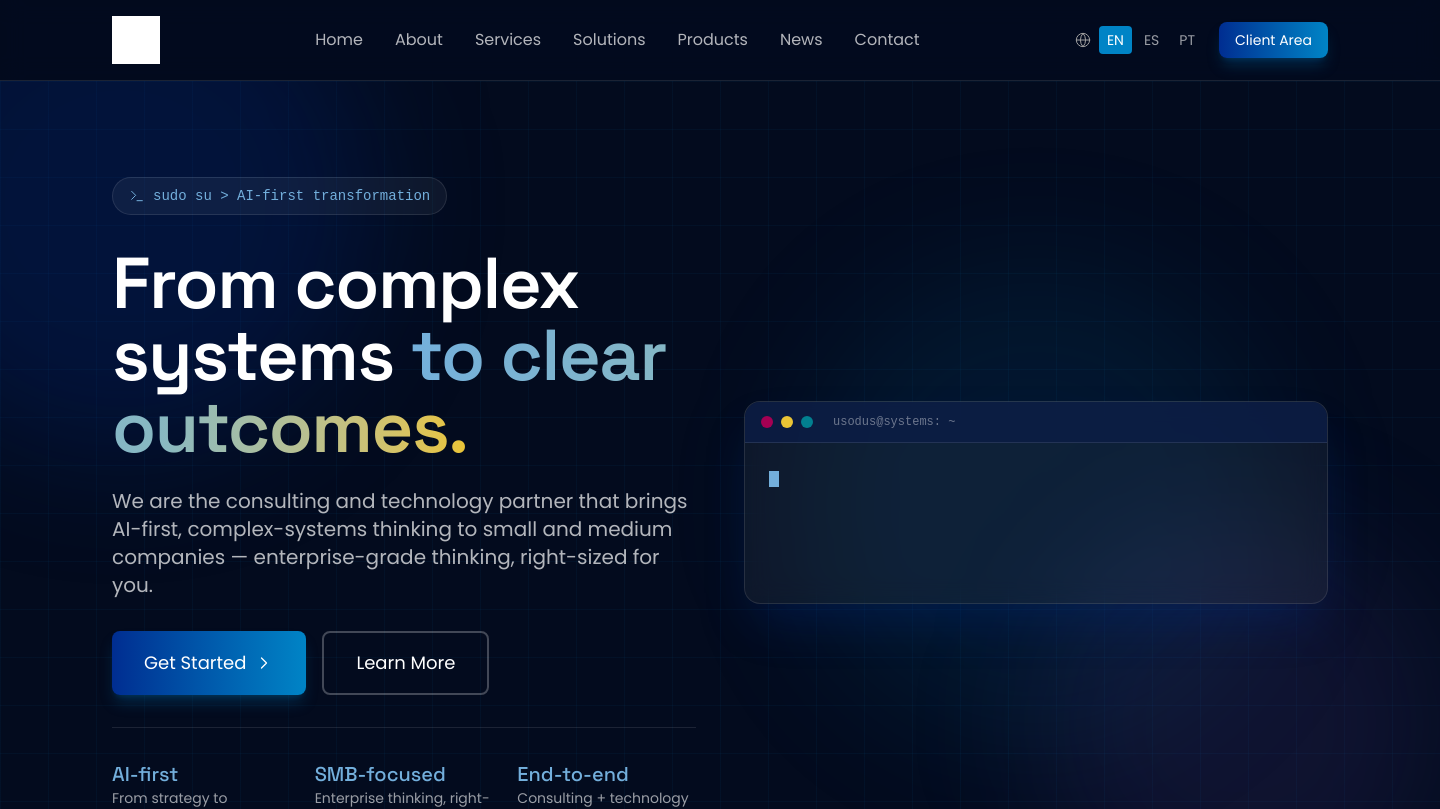
Test: <App /> (live stack render smoke test) › does not collect credentials on the unauthenticated Client Area page
Click the button "Client Area" at (1274, 40), box top-left (1219, 22), bottom-right (1328, 58)
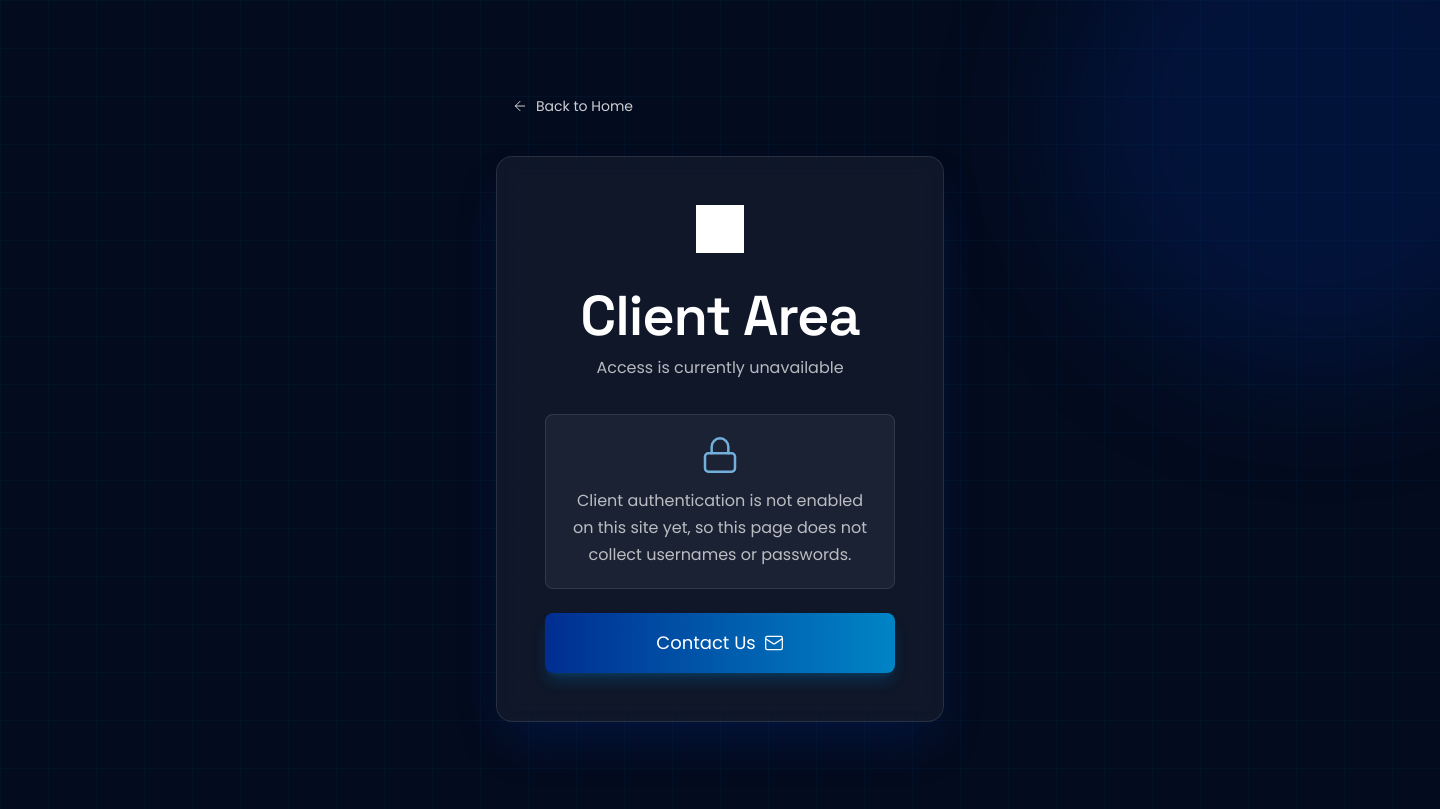
expect the text "Access is currently unavailable" is shown: met, box top-left (596, 356), bottom-right (844, 379)
